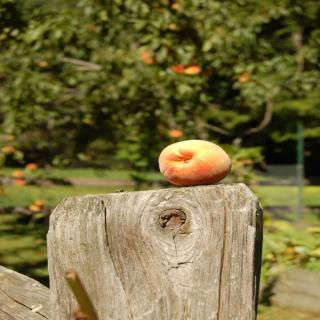Peach: (166, 138, 230, 188), (146, 50, 204, 75), (26, 203, 41, 212), (168, 129, 184, 137), (26, 162, 38, 172), (15, 179, 27, 187), (11, 170, 24, 177), (240, 74, 250, 83), (32, 199, 43, 206)
